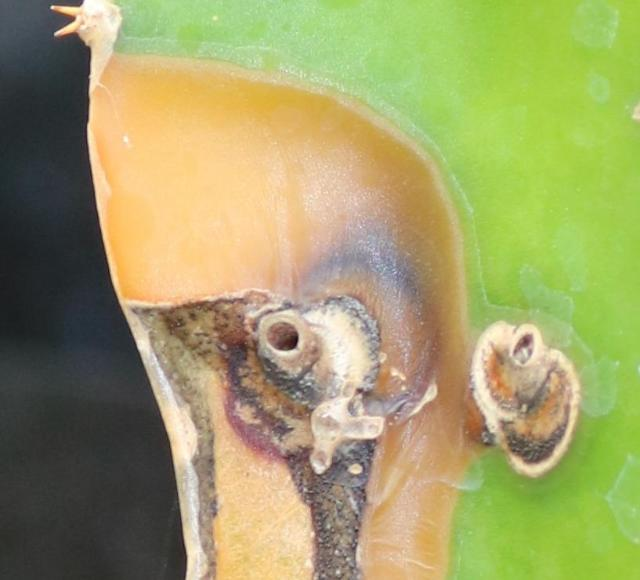stemcanker: (87, 13, 622, 572)
